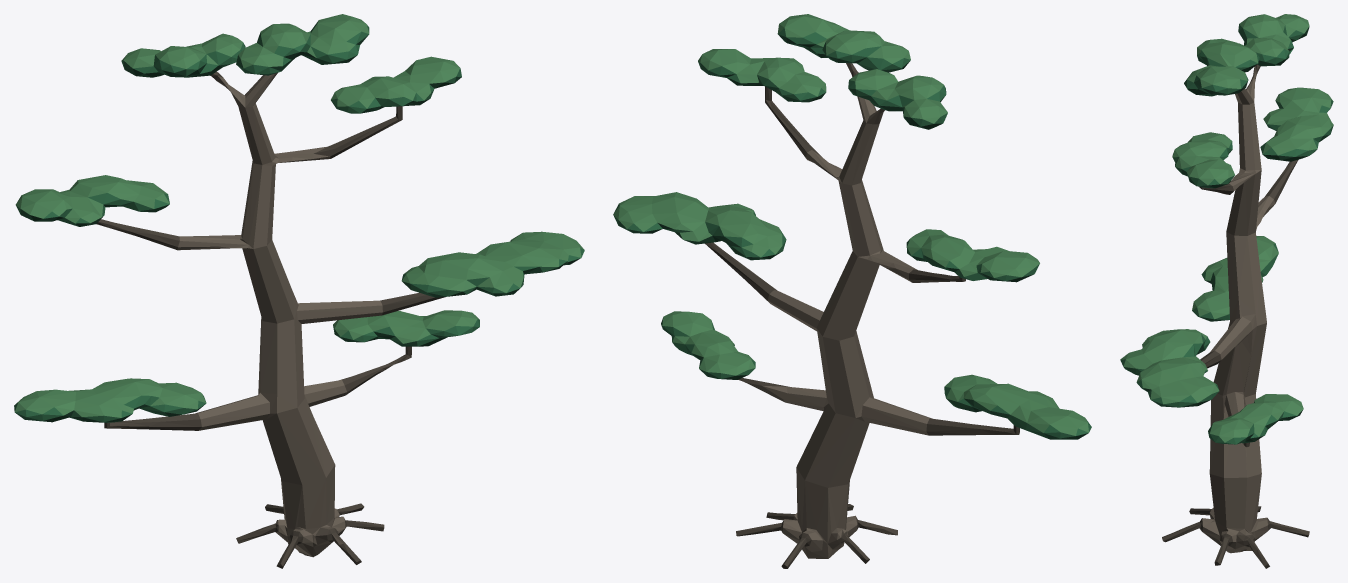
The model's file is ancient-pine-2171-lod1.glb.
3 views of the same model, side by side, from view 1: azimuth 30°, elevation 25°; view 2: azimuth 150°, elevation 25°; view 3: azimuth 270°, elevation 25° (orthographic). The views are drawn at different scales.
Parts seen in each view (by area): view 1: n12.005, n8.005, n11.005, n9.005, n10.005; view 2: n12.005, n8.005, n11.005, n9.005, n10.005; view 3: n12.005, n8.005, n11.005, n9.005, n10.005.
Part boxes in pixels (x1=…): n12.005: x1=15, y1=14, x2=584, y2=417; n8.005: x1=177, y1=73, x2=382, y2=557; n11.005: x1=14, y1=20, x2=584, y2=422; n9.005: x1=96, y1=71, x2=445, y2=568; n10.005: x1=16, y1=35, x2=580, y2=422; n12.005: x1=613, y1=14, x2=1088, y2=435; n8.005: x1=762, y1=65, x2=931, y2=558; n11.005: x1=613, y1=28, x2=1091, y2=438; n9.005: x1=705, y1=63, x2=1019, y2=568; n10.005: x1=619, y1=34, x2=1088, y2=439; n12.005: x1=1120, y1=14, x2=1333, y2=442; n8.005: x1=1202, y1=66, x2=1275, y2=553; n11.005: x1=1120, y1=24, x2=1333, y2=444; n9.005: x1=1162, y1=64, x2=1309, y2=568; n10.005: x1=1124, y1=26, x2=1332, y2=444.
Bounding box in the file's own units: 5.54 × 5.44 × 2.14.
